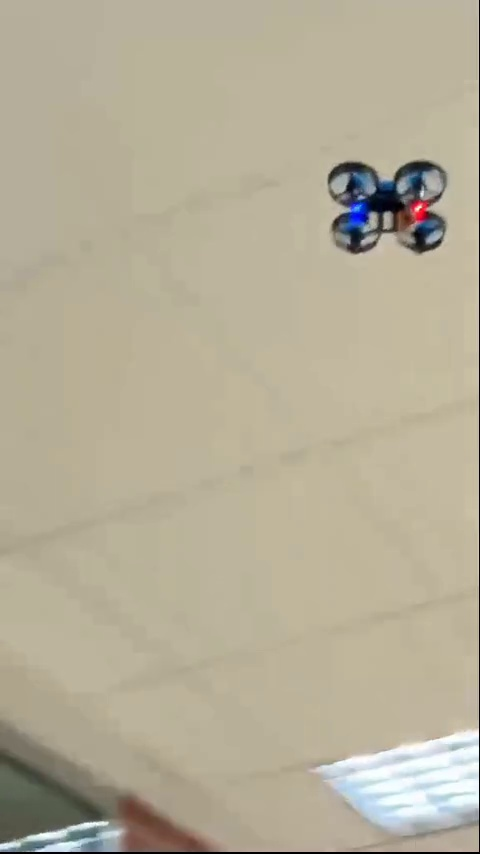drone: (319, 154, 453, 255)
